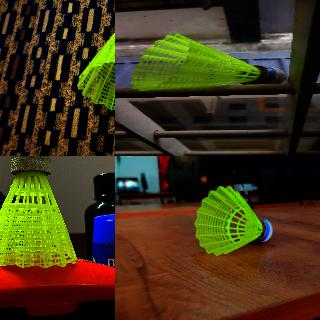shuttlecock: (131, 34, 286, 91), (0, 156, 78, 268), (194, 186, 272, 254), (77, 0, 114, 113)
